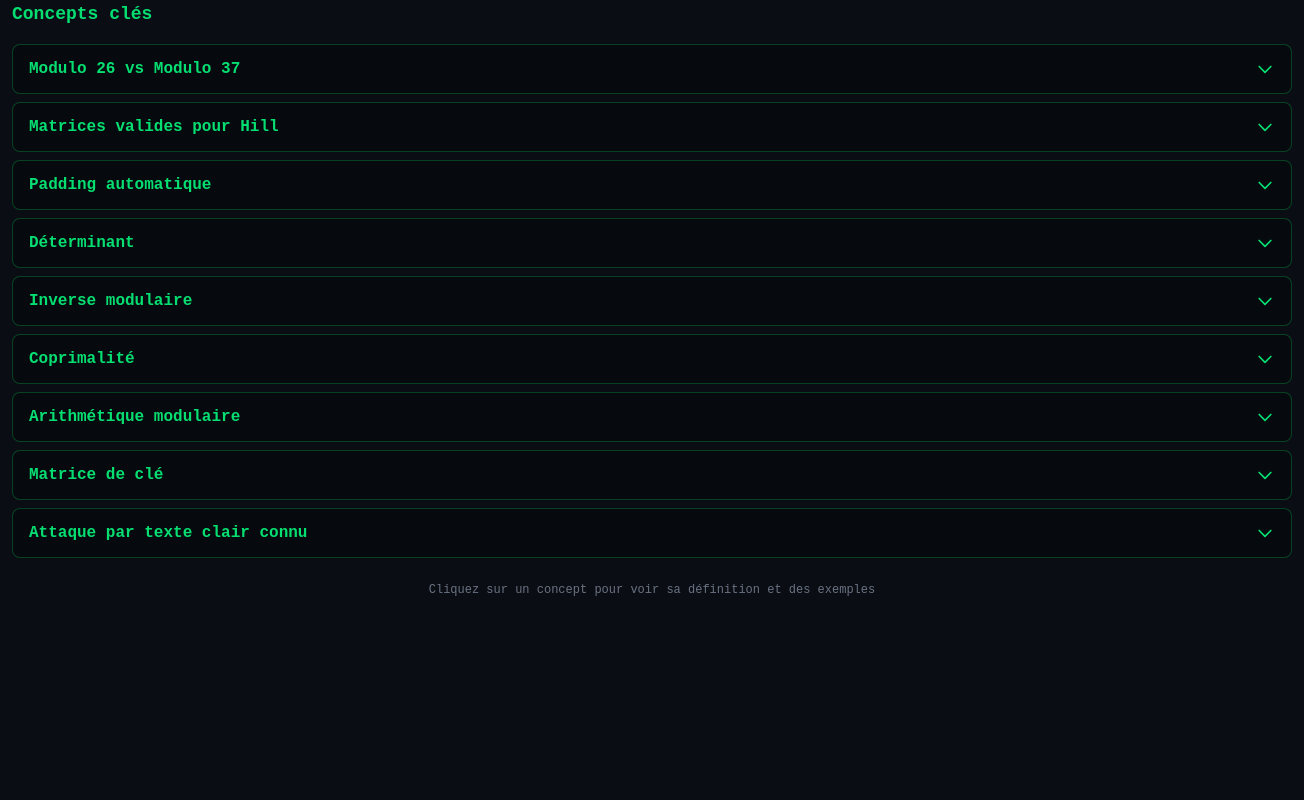
Scenario: ConceptExplainer › collapses concept when clicked again
This screenshot has width=1304, height=800.
Click the button "Déterminant" at [82, 243], box x1=13 y1=219 x2=1291 y2=267
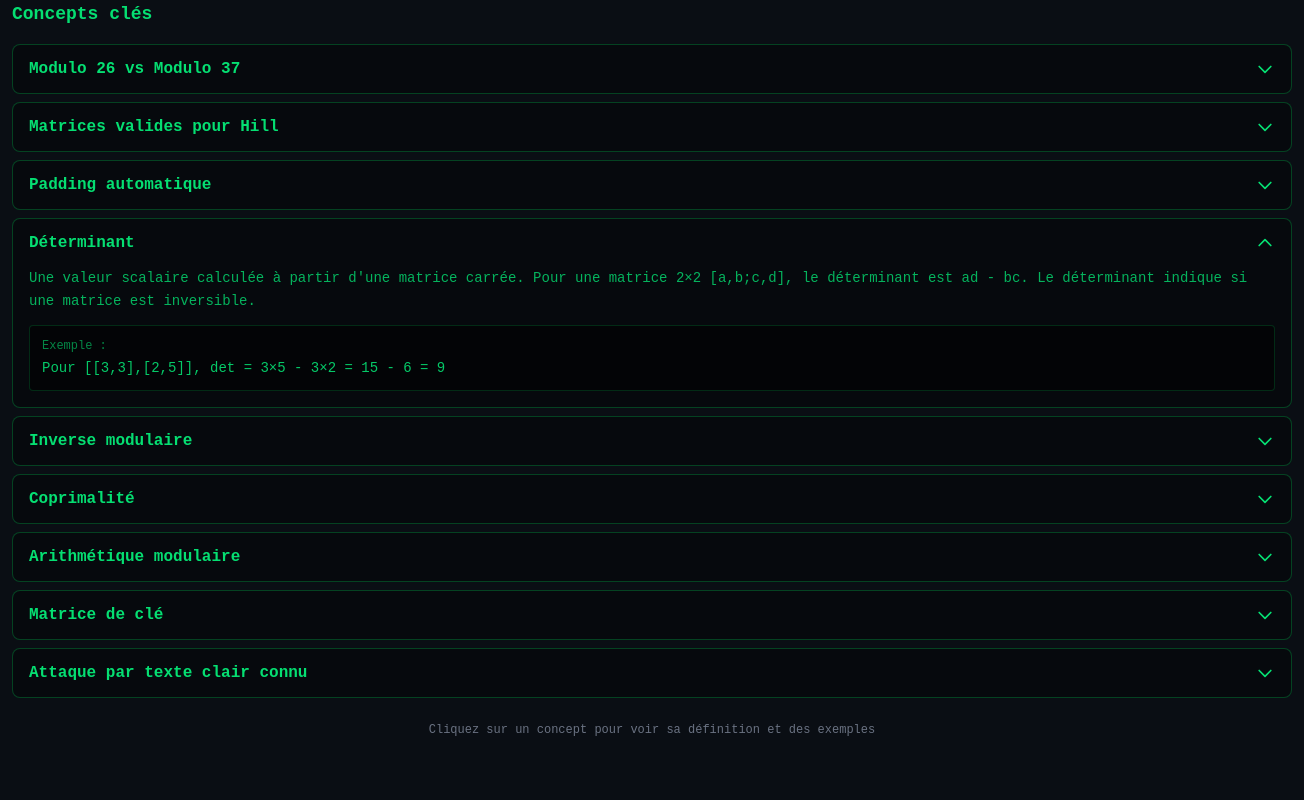
Expected: the text "Une valeur scalaire calculée" is shown, x1=29 y1=270 x2=1247 y2=309
Click the button "Déterminant" at [82, 243], box x1=13 y1=219 x2=1291 y2=267
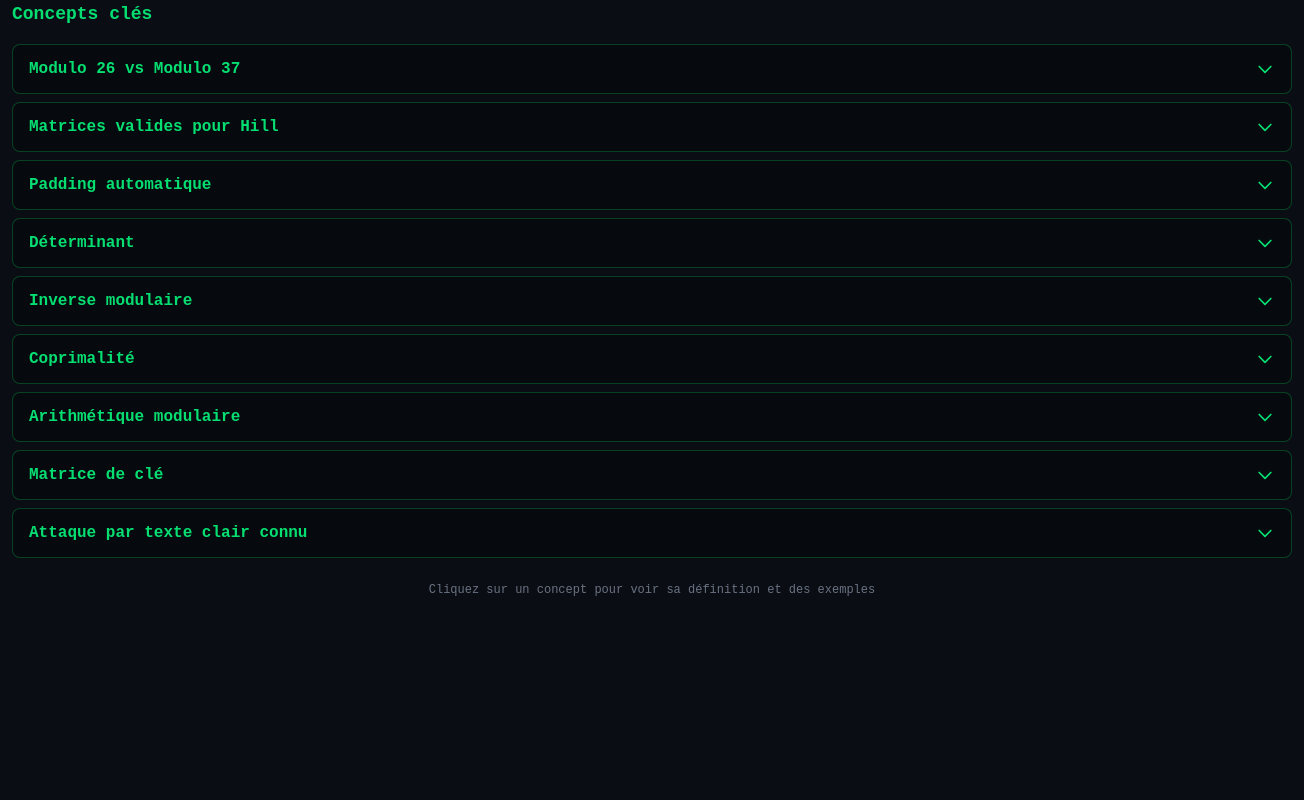
Expected: the text "Une valeur scalaire calculée" is gone
